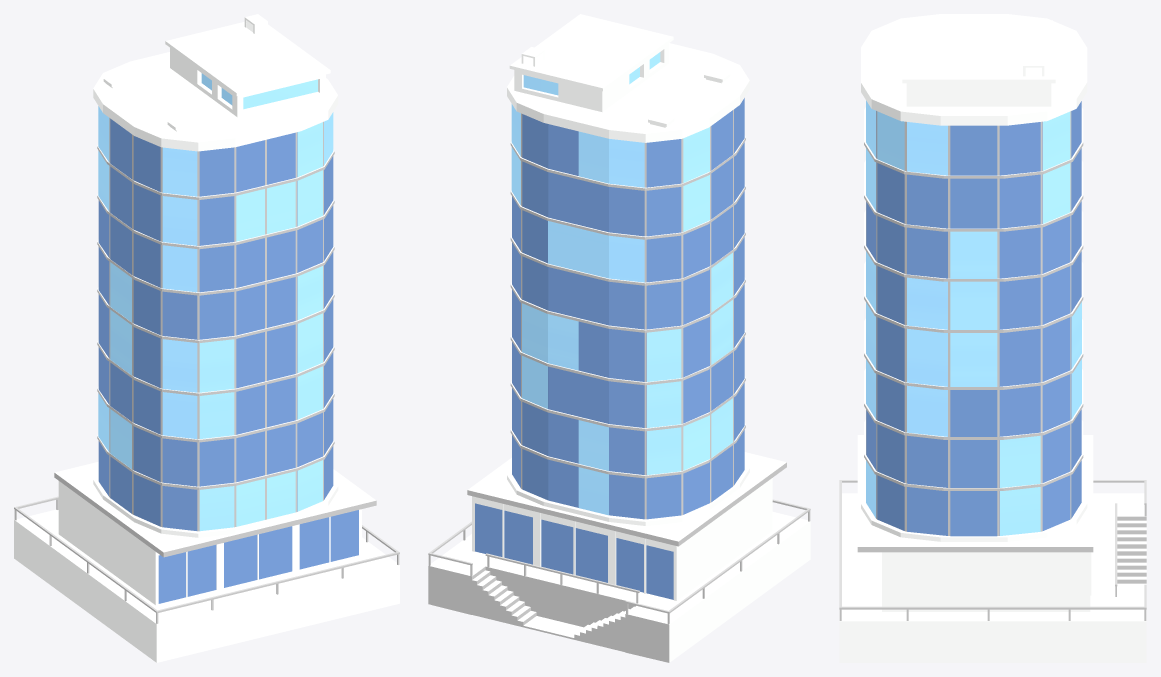
Rendered from tile_for_home_2x2.005 (3).glb.
The picture shows the model from 3 angles, left to right: view 1: azimuth 30°, elevation 25°; view 2: azimuth 150°, elevation 25°; view 3: azimuth 270°, elevation 25°; orthographic projection. The views are drawn at different scales.
Visible parts, largest first — view 1: business centers.004; view 2: business centers.004; view 3: business centers.004.
Boxes of the visible parts, x1,y1,x2,y2 form: business centers.004: (14, 14, 399, 662); business centers.004: (428, 14, 810, 662); business centers.004: (839, 14, 1146, 662).
Bounding box in the file's own units: 14.77 × 30.87 × 15.01.
1 material, 1 textured.
